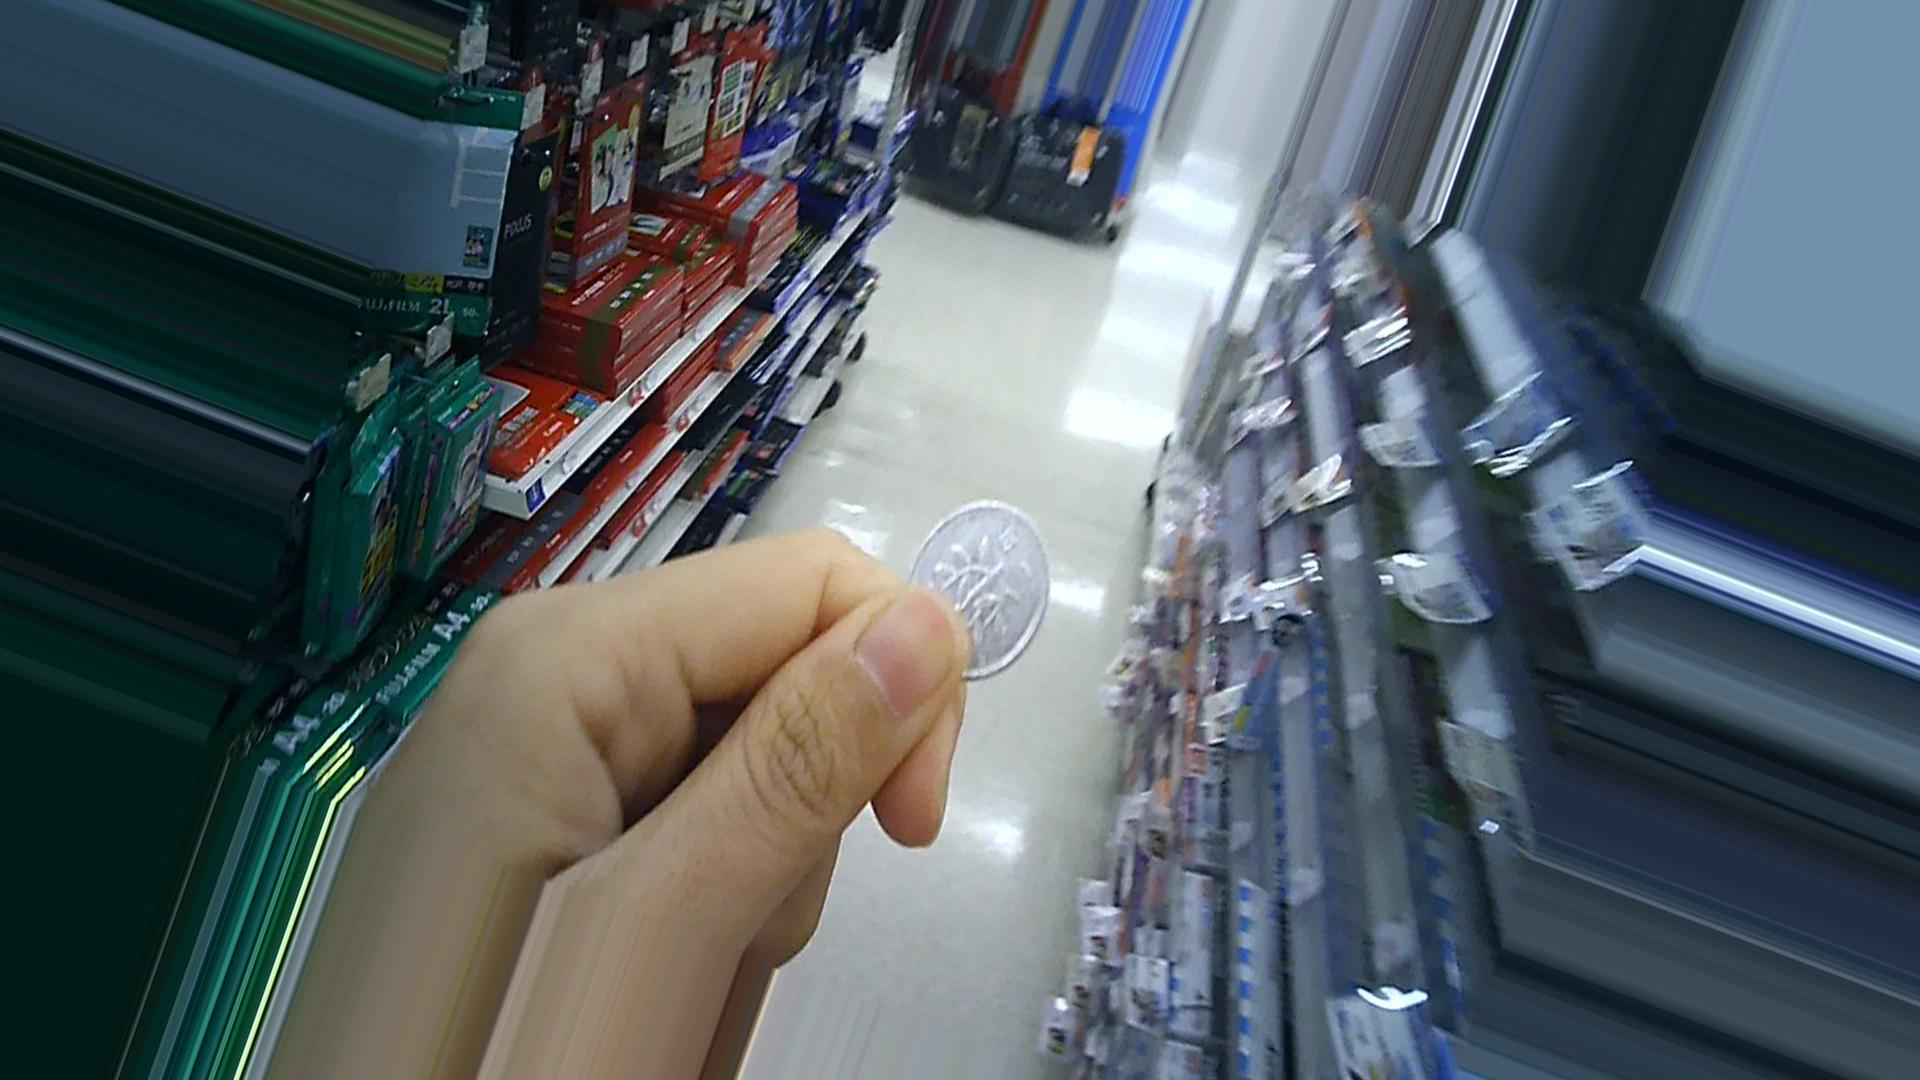1 Yen: (902, 491, 1060, 687)
